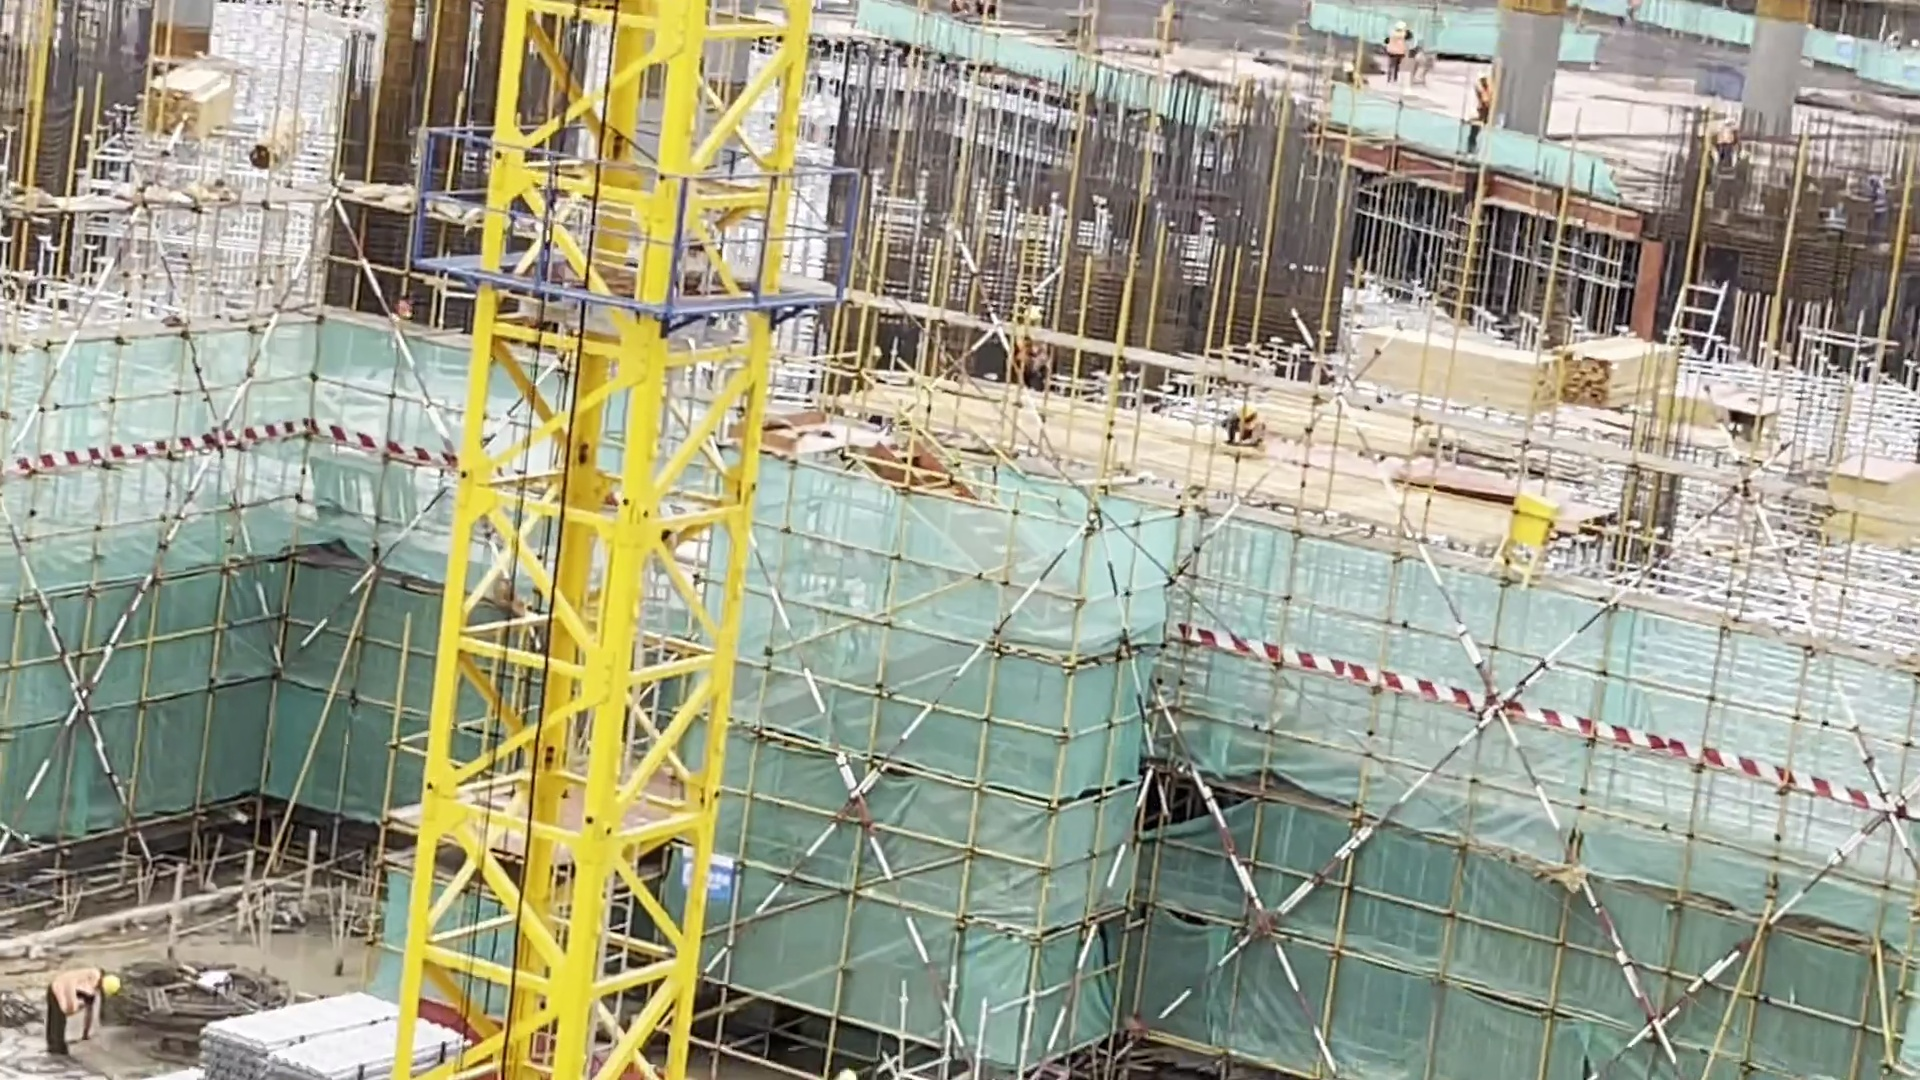helmet: (96, 968, 143, 1016)
person: (31, 944, 134, 1075), (1204, 385, 1289, 457), (1365, 17, 1437, 95), (1480, 43, 1502, 124)
scaffold: (195, 988, 416, 1080)
wood: (1357, 316, 1588, 430), (1824, 448, 1920, 547), (1554, 314, 1639, 421), (146, 44, 239, 118)
